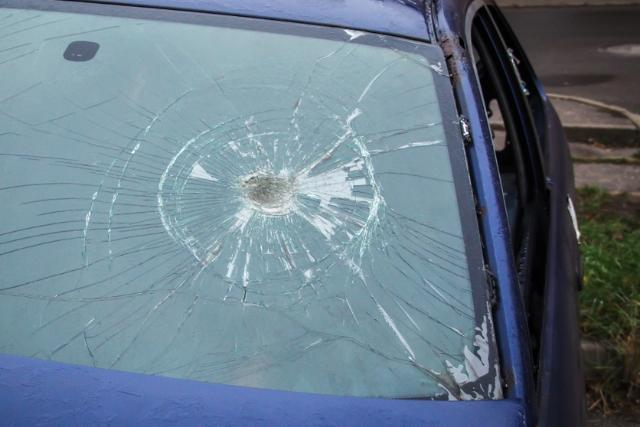Windshield: (2, 14, 460, 393)
